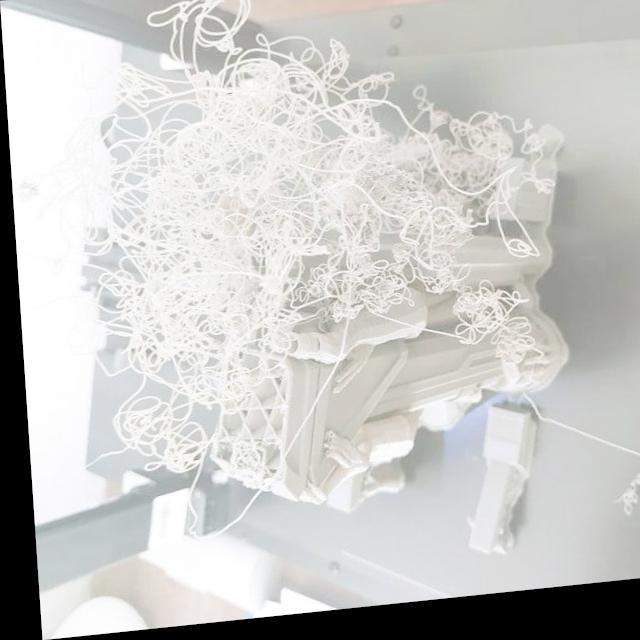spaghetti: (89, 44, 271, 367), (253, 53, 363, 206), (347, 123, 494, 203), (261, 200, 357, 300), (114, 385, 208, 474), (332, 219, 404, 332), (399, 183, 470, 278), (460, 285, 529, 380), (162, 1, 248, 59), (607, 462, 640, 523)
